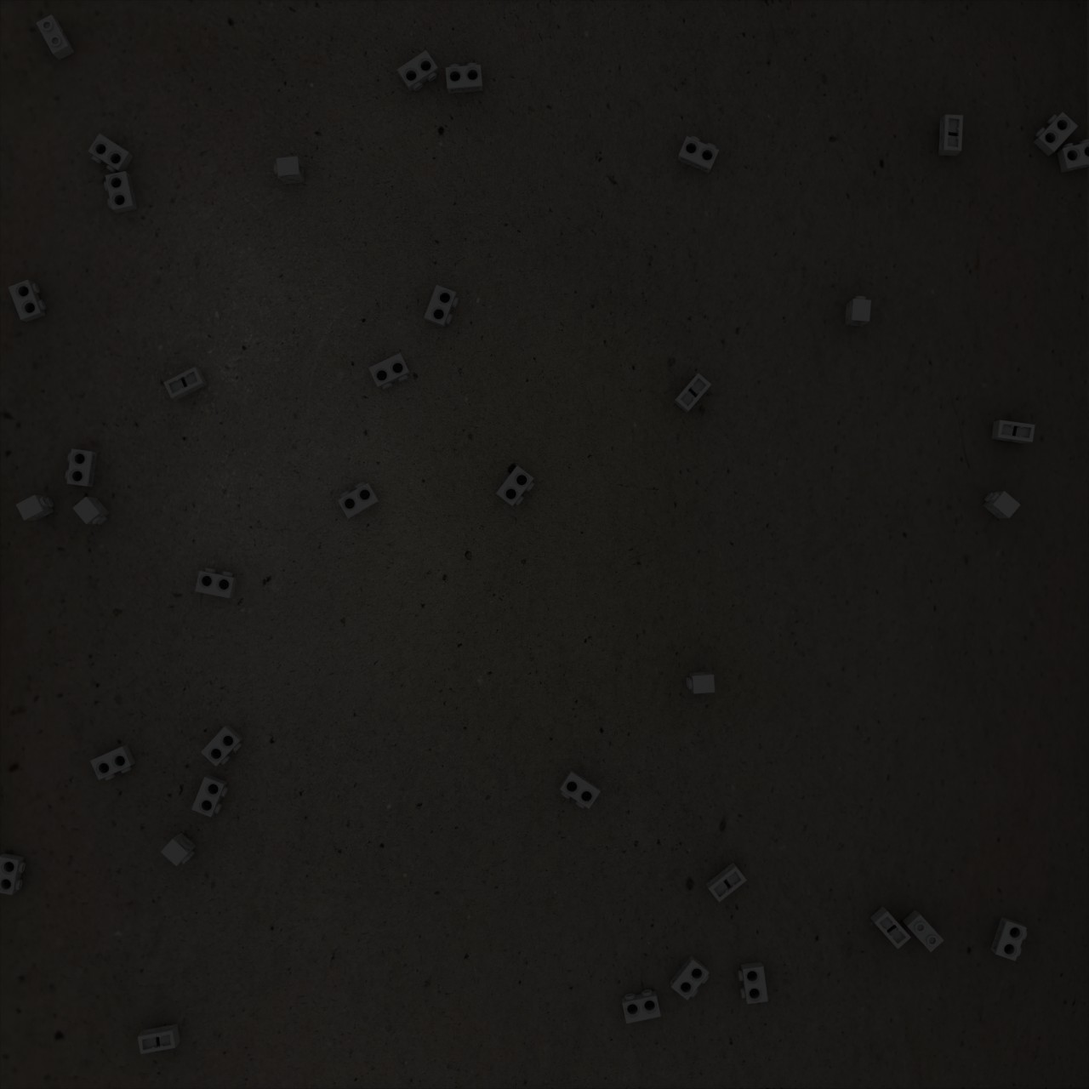lego: (1033, 112, 1078, 156), (88, 133, 134, 174), (36, 14, 75, 61), (201, 724, 243, 767), (902, 909, 944, 952), (669, 955, 709, 1000), (397, 50, 439, 92), (870, 906, 911, 949), (90, 744, 136, 781), (560, 769, 601, 809), (706, 862, 747, 902), (496, 465, 535, 507), (8, 280, 46, 323), (990, 917, 1027, 961), (677, 136, 719, 174), (368, 353, 411, 390), (191, 774, 228, 817), (337, 482, 380, 519), (673, 373, 712, 413), (424, 285, 459, 328), (163, 367, 208, 400), (104, 171, 137, 214), (621, 990, 661, 1024), (137, 1024, 180, 1054), (195, 568, 237, 598), (738, 962, 768, 1004), (160, 832, 196, 866), (65, 449, 97, 487), (445, 63, 483, 94), (72, 496, 110, 525), (0, 853, 26, 895), (1057, 139, 1089, 173), (983, 491, 1021, 519), (991, 420, 1035, 444), (939, 114, 963, 156), (16, 495, 54, 521), (274, 156, 305, 184), (845, 296, 871, 326), (686, 672, 715, 694)
